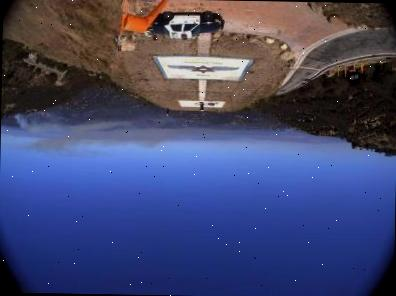smoke: (15, 111, 130, 152)
